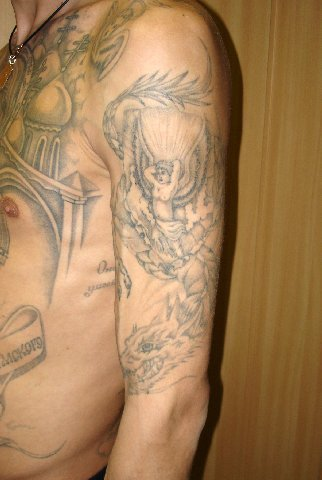tatu1_angel: (124, 108, 217, 256)
